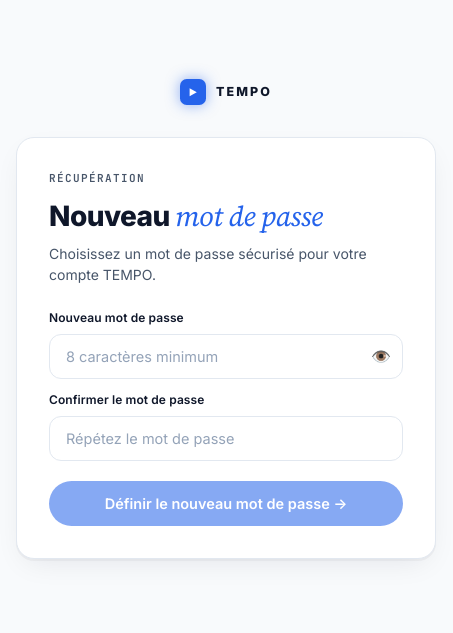
Test: ResetPassword › Erreur Supabase › affiche le message d'erreur retourné par Supabase
This screenshot has width=453, height=633.
Type "Secure1234!" into the password field labelled "Nouveau mot de passe" at (226, 356), box [49, 334, 403, 379]
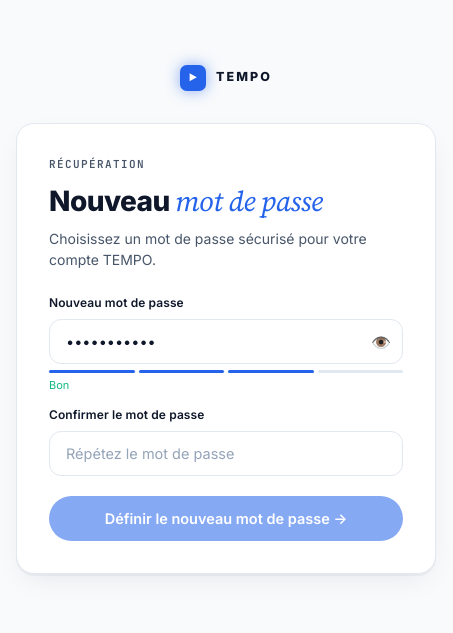
Type "Secure1234!" into the password field labelled "Confirmer le mot de passe" at (226, 453), box [49, 430, 403, 476]
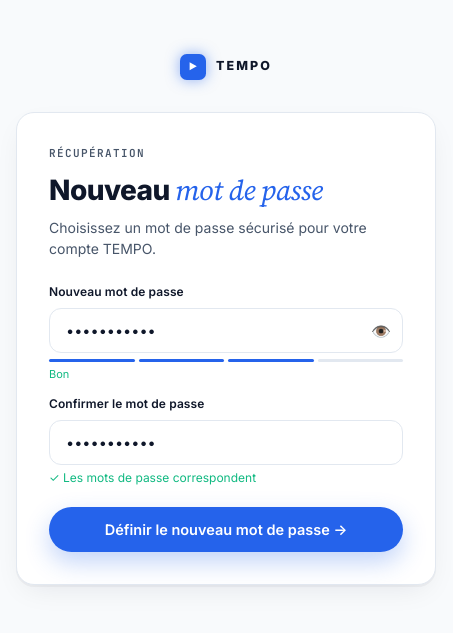
Submit the form, box [49, 283, 403, 552]
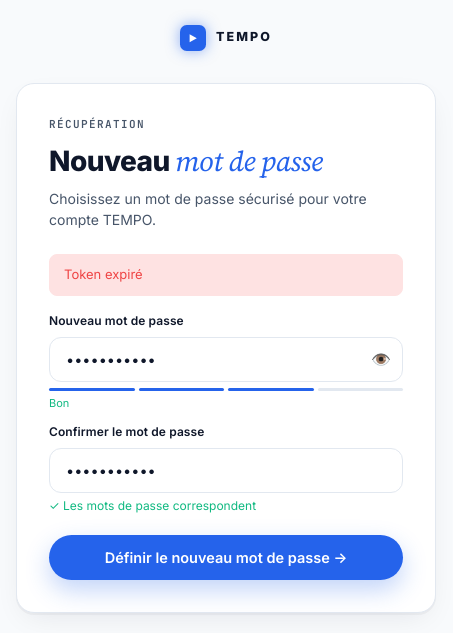
Check: the text "Token expiré" is shown, box [49, 254, 403, 296]
